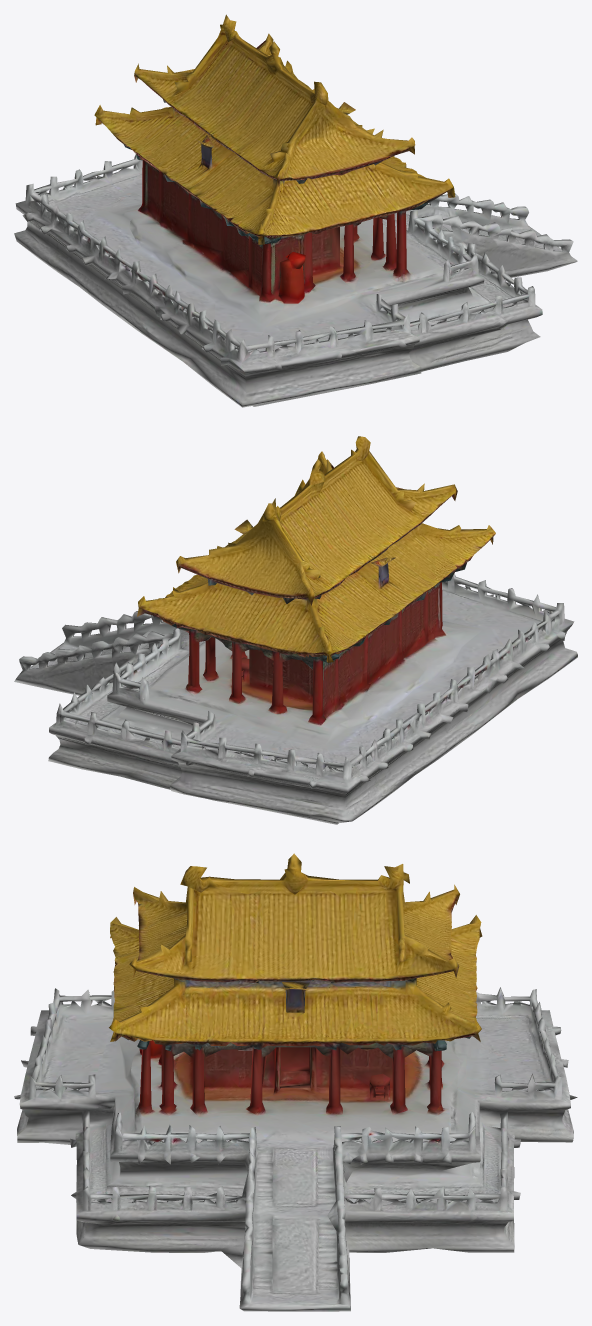
The model's file is court-hall.glb.
The picture shows the model from 3 angles, top to bottom: view 1: azimuth 30°, elevation 25°; view 2: azimuth 150°, elevation 25°; view 3: azimuth 270°, elevation 25°; orthographic projection. The views are drawn at different scales.
Parts seen in each view (by area): view 1: tripo_node_66a19b73-ab31-4a08-9d84-7b7707af4adc; view 2: tripo_node_66a19b73-ab31-4a08-9d84-7b7707af4adc; view 3: tripo_node_66a19b73-ab31-4a08-9d84-7b7707af4adc.
Part boxes in pixels (left/top/right/bottom): tripo_node_66a19b73-ab31-4a08-9d84-7b7707af4adc: left=14, top=14, right=577, bottom=407; tripo_node_66a19b73-ab31-4a08-9d84-7b7707af4adc: left=14, top=436, right=577, bottom=824; tripo_node_66a19b73-ab31-4a08-9d84-7b7707af4adc: left=14, top=853, right=577, bottom=1311.
Bounding box in the file's own units: 0.9882 × 0.5986 × 1.
Materials: 1 (1 with a texture image).
